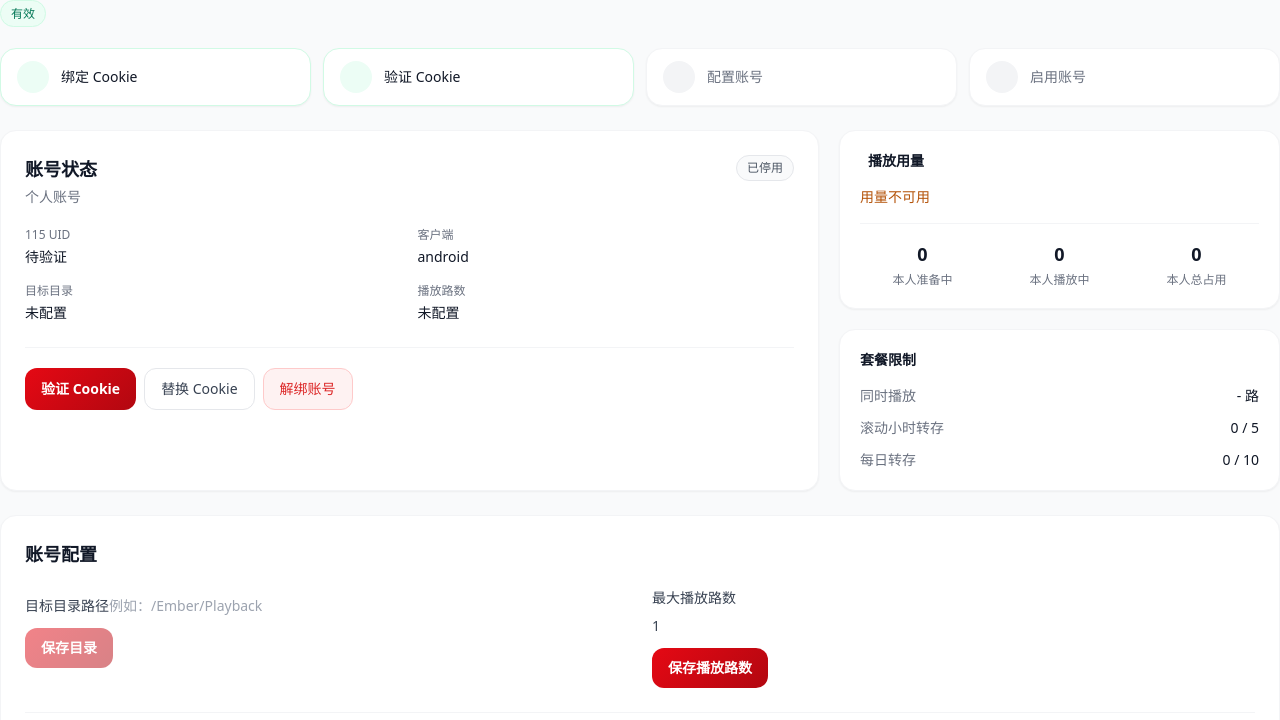
Test: P115AccountView › 解绑需要确认，成功后回到未绑定状态
Click the button "解绑账号" at coordinates (308, 389), box [262,368,352,410]
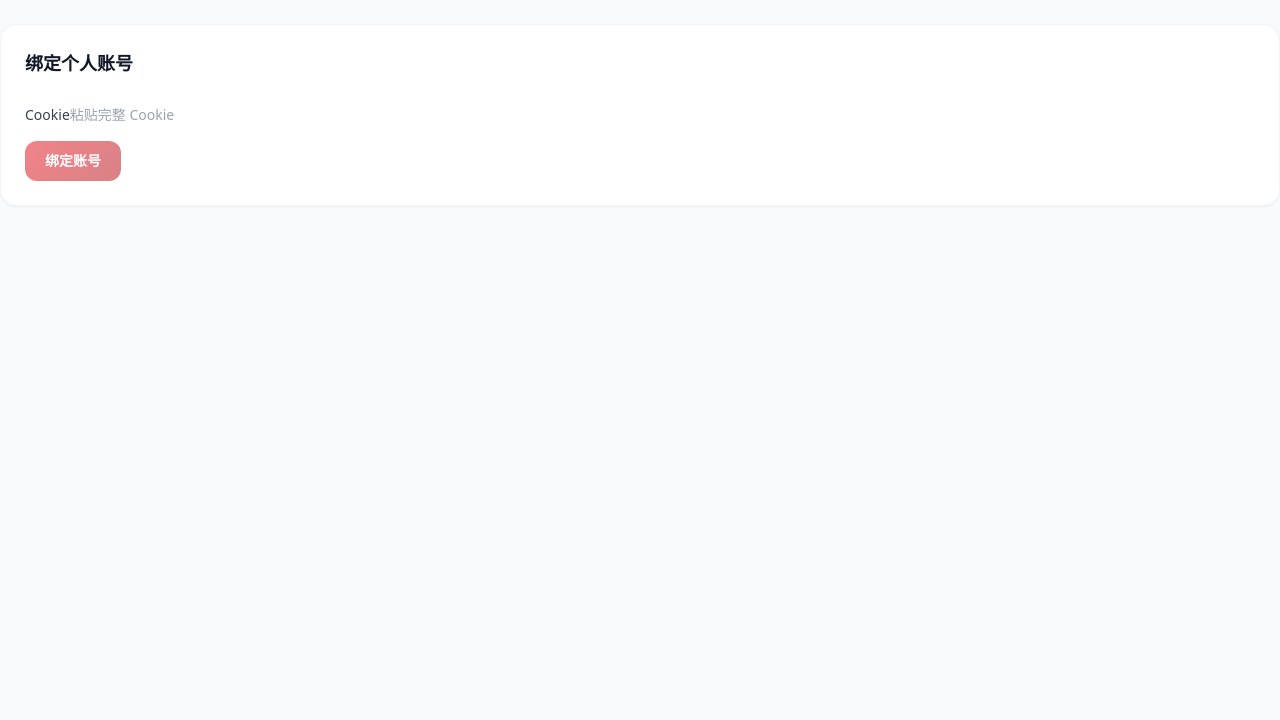
Result: the text "绑定账号" is shown at [25,141,121,181]
